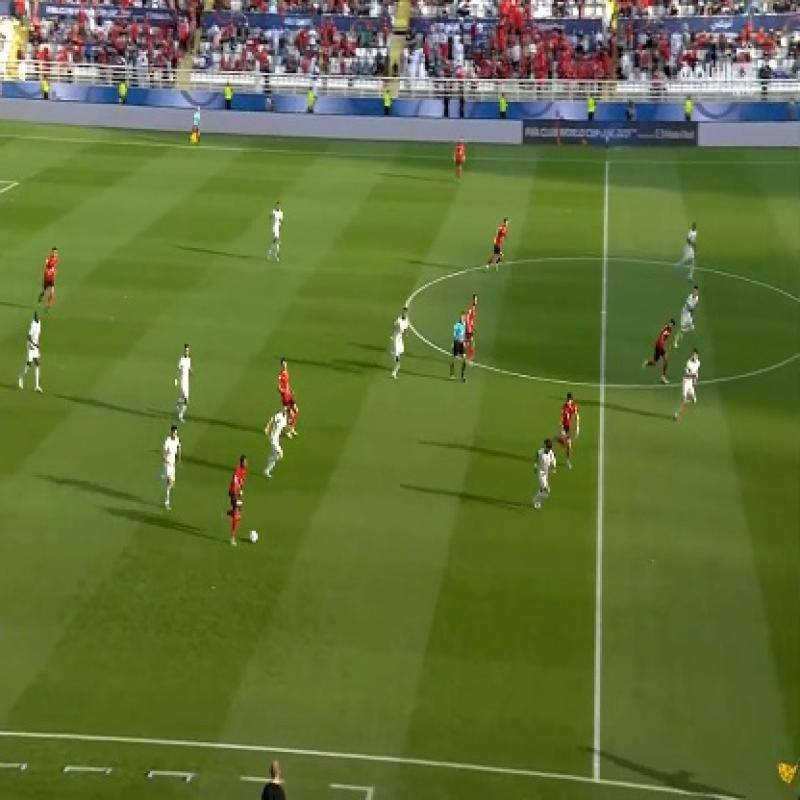13: (598, 148, 614, 171)
14: (592, 242, 618, 273)
15: (588, 364, 615, 404)
16: (576, 754, 620, 798)
9: (4, 170, 23, 192)
c: (394, 293, 419, 316)
